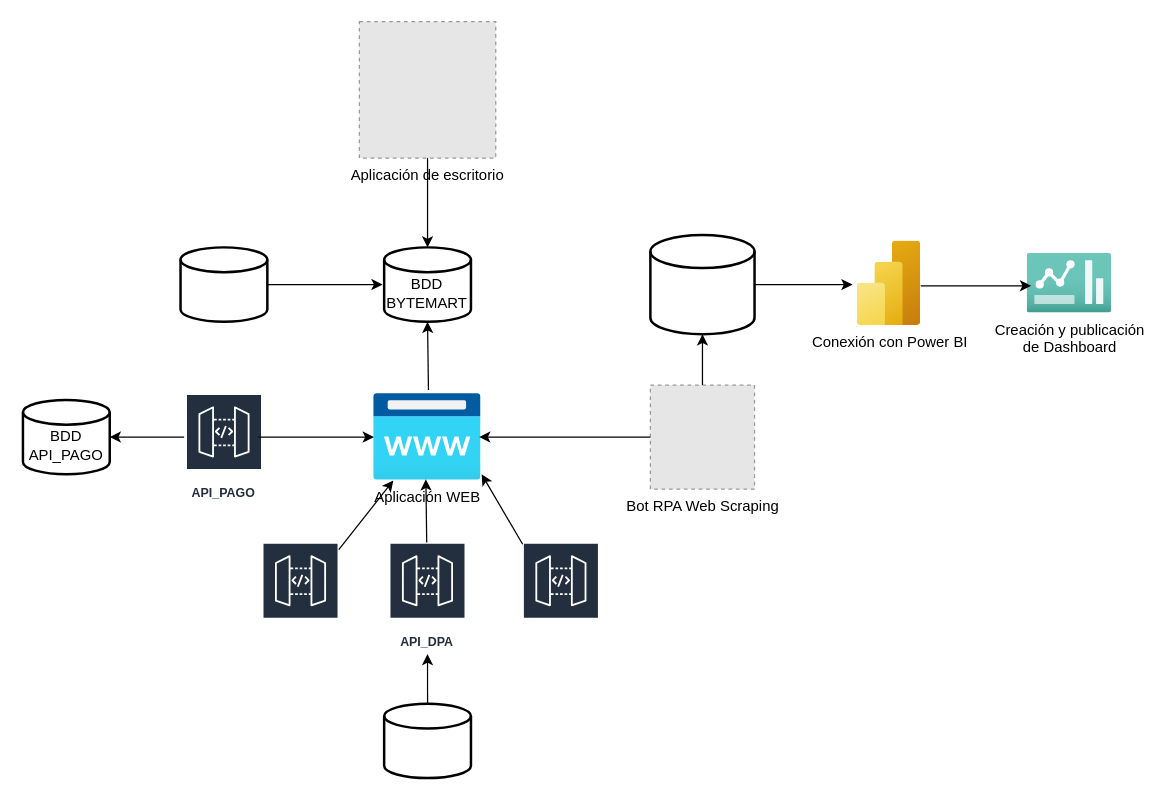
The diagram is 1166 pixels wide and 801 high, and some of its shapes have lost their labels. Grey dashed boxes stand in for pictures. The centre of each missing label's shape, as x and y in pixels:
"API PRODUCTOS DESTACADOS" goes at point (560, 608).
"API_GESTION STOCK" goes at point (300, 597).
"BDD API_DPA" goes at point (427, 740).
"BDD BOT_RPA" goes at point (702, 284).
"BDD RESPALDO" goes at point (223, 284).
